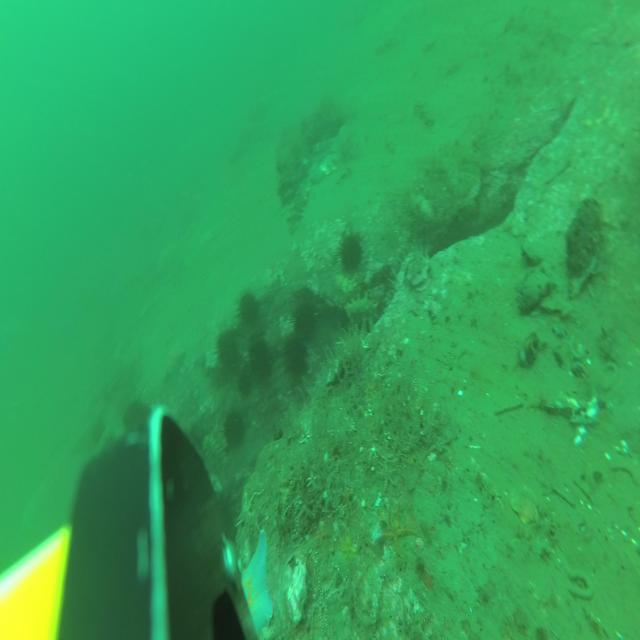echinus: (340, 231, 363, 277), (122, 399, 150, 434), (237, 292, 259, 332), (219, 328, 237, 375), (250, 340, 270, 380), (284, 336, 304, 375), (225, 409, 244, 447), (295, 307, 314, 343), (238, 364, 251, 394)
holothurian: (343, 292, 379, 333), (287, 179, 310, 238), (413, 100, 433, 130), (375, 36, 400, 56), (383, 137, 397, 157)
scallop: (511, 484, 538, 524), (321, 152, 339, 177), (422, 34, 436, 53)
starfish: (240, 529, 274, 640), (385, 505, 416, 560), (339, 529, 360, 560)
